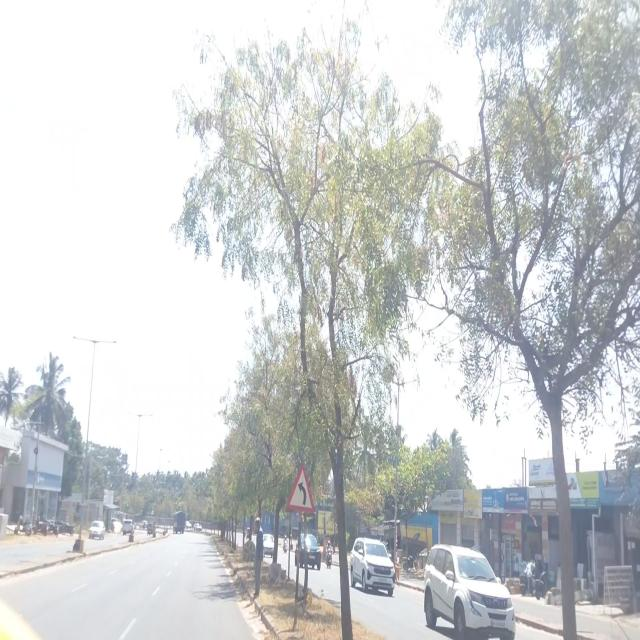bien_cam: (286, 466, 316, 513)
